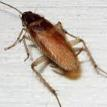cockroach: (21, 9, 80, 76)
